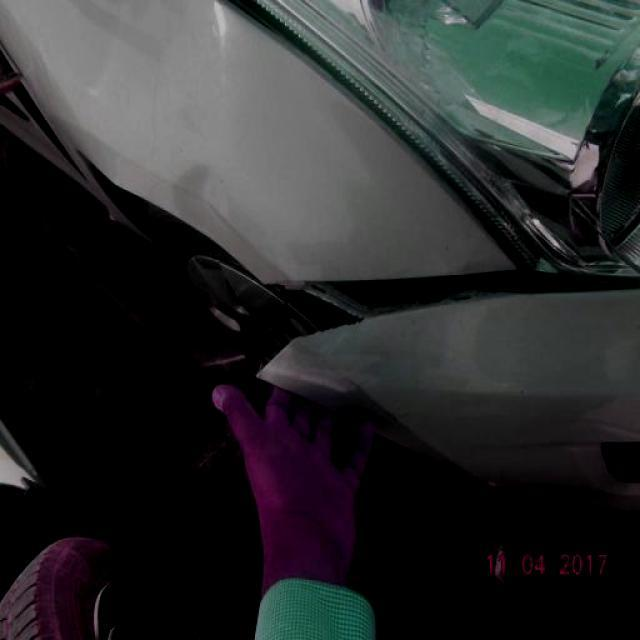car damage: (255, 270, 616, 378)
